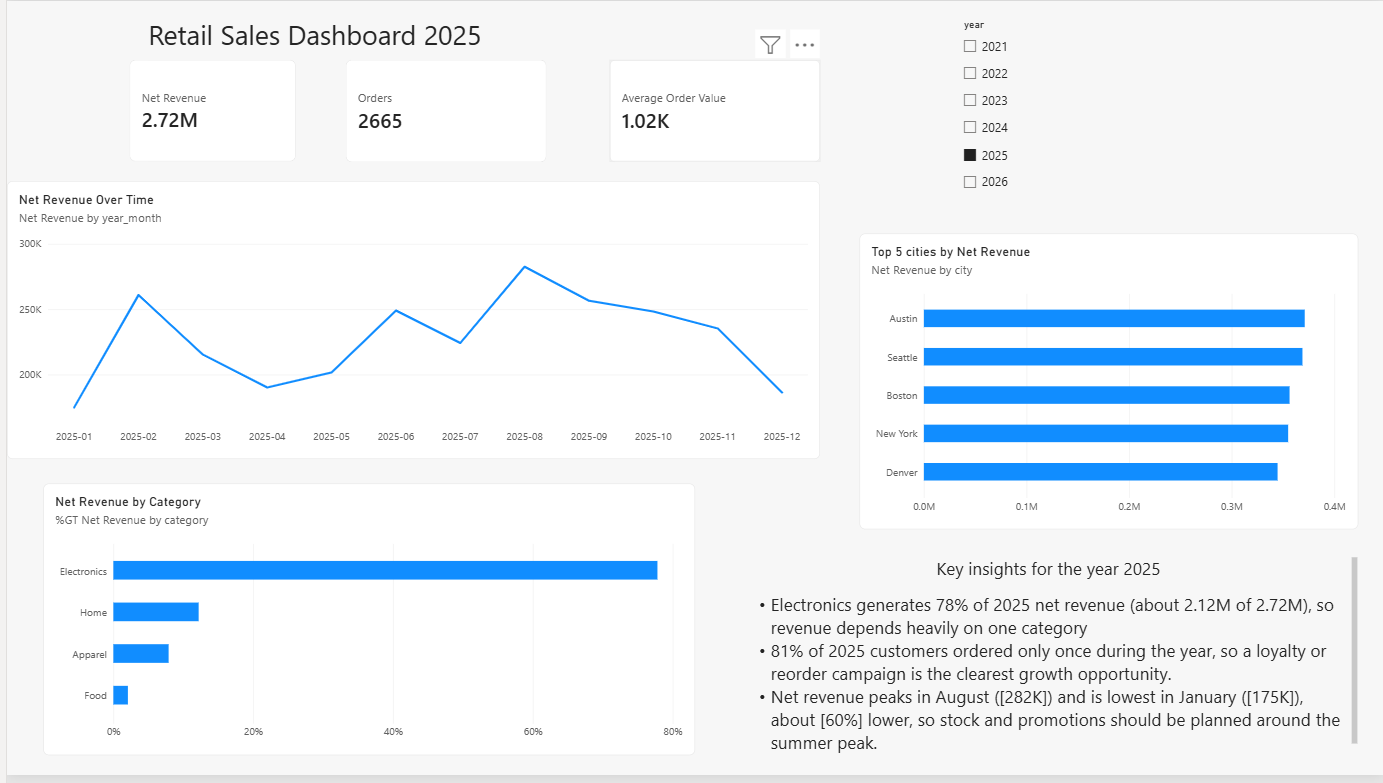

Layout of this report page (visuals, bound fields, positions):
{"tool":"powerbi","page":{"name":"Page 1","canvas":[1920,1080],"ordinal":0},"visuals":[{"type":"cardVisual","fields":{"Data":["Date.Avg_order_value"]},"box":[840.2,82.5,294.8,143],"z":0},{"type":"cardVisual","fields":{"Data":["Date.Net_revenue"]},"box":[170.7,82.5,232.5,142.5],"z":1000},{"type":"cardVisual","fields":{"Data":["Date.Orders"]},"box":[472.6,82.5,280.8,143],"z":2000},{"type":"lineChart","title":"Net Revenue Over Time","fields":{"Category":["Date.year_month"],"Y":["Date.Net_revenue"]},"box":[0,251.3,1134.6,388.2],"z":3000},{"type":"barChart","title":"Net Revenue by Category","fields":{"Category":["retail_warehouse fact_retail_sales.category"],"Y":["Date.Net_revenue"]},"box":[50.6,673.3,909.6,378.8],"z":4000},{"type":"barChart","title":"Top 5 cities by Net Revenue","fields":{"Category":["retail_warehouse dim_store.city"],"Y":["Date.Net Revenue"]},"box":[1189,324.4,695.8,412.6],"z":5000},{"type":"textbox","box":[656.4,791.4,1106.5,230.7],"z":7000},{"type":"textbox","box":[1029.6,776.4,855.2,275.7],"z":8000},{"type":"slicer","fields":{"Values":["Date.year"]},"box":[1327.8,24.4,442.6,255.1],"z":8001},{"type":"textbox","box":[196.9,20.6,832.7,93.8],"z":8002}]}

Visuals, with their boxes in screenshot pixels (x1, y1, x2, y2), scaled from the page's 1920x1080 canvas onto the 1383x783 screenshot:
cardVisual - Date.Avg_order_value: BBox(605, 60, 818, 163)
cardVisual - Date.Net_revenue: BBox(123, 60, 290, 163)
cardVisual - Date.Orders: BBox(340, 60, 543, 163)
"Net Revenue Over Time" lineChart: BBox(0, 182, 817, 464)
"Net Revenue by Category" barChart: BBox(36, 488, 692, 763)
"Top 5 cities by Net Revenue" barChart: BBox(856, 235, 1358, 534)
textbox: BBox(473, 574, 1270, 741)
textbox: BBox(742, 563, 1358, 763)
slicer - Date.year: BBox(956, 18, 1275, 203)
textbox: BBox(142, 15, 742, 83)
